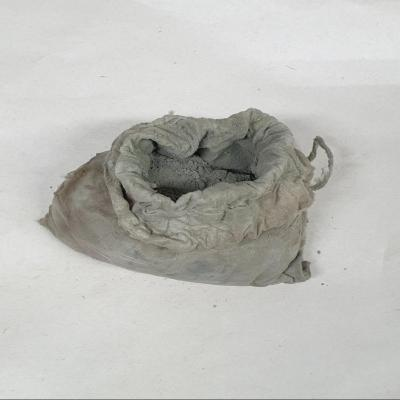mineralogy: (151, 156, 249, 202)
